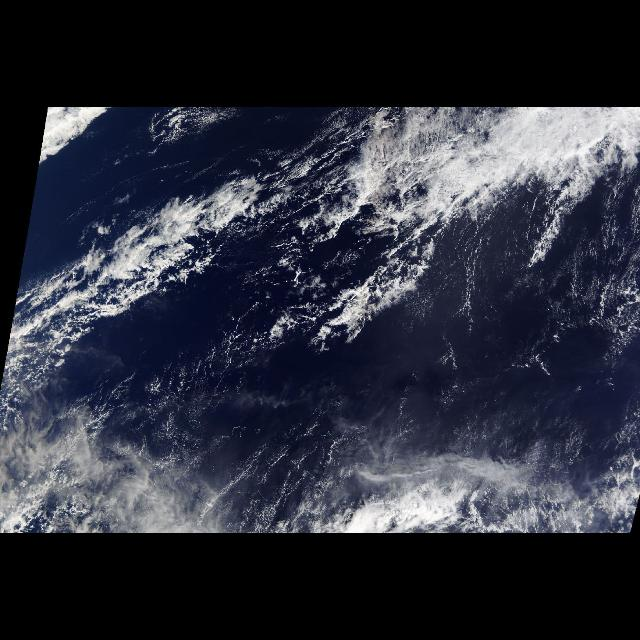Fish: (33, 148, 265, 354)
